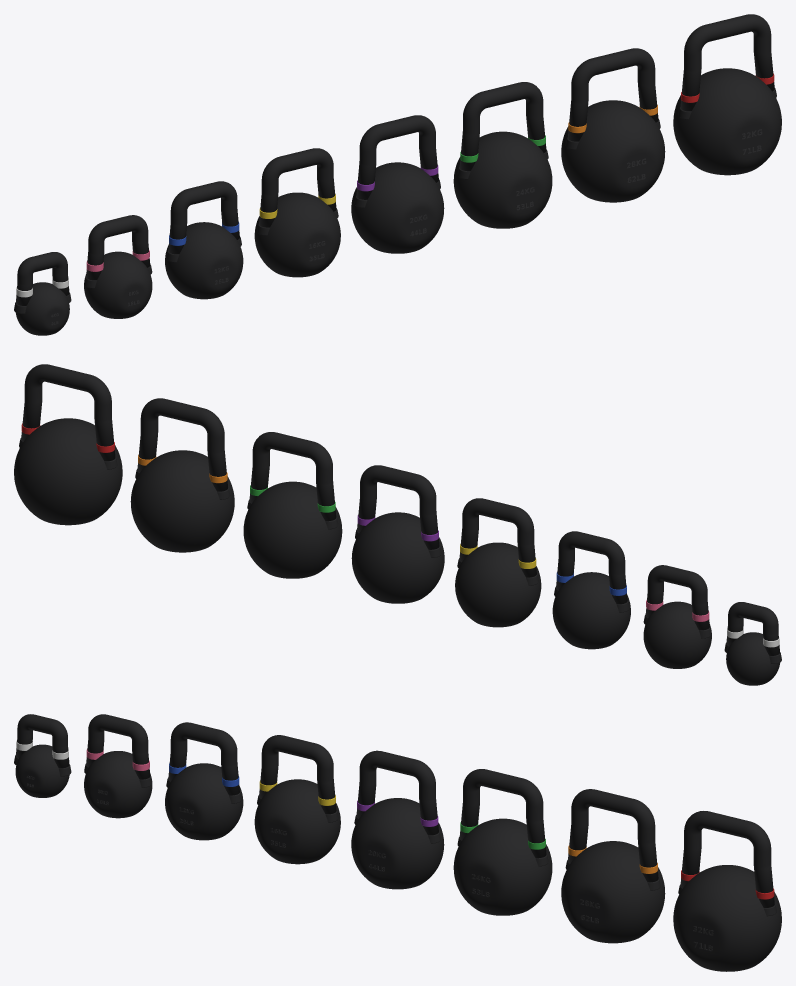
Rendered from life-fitness-cast-iron-kettlebells_v003.glb.
The picture shows the model from 3 angles, top to bottom: view 1: azimuth 30°, elevation 25°; view 2: azimuth 150°, elevation 25°; view 3: azimuth 330°, elevation 25°; orthographic projection.
Visible parts, largest first — view 1: life-fitness-cast-iron-kettlebells_iron, life-fitness-cast-iron-kettlebells_iron.001, life-fitness-cast-iron-kettlebells_ink; view 2: life-fitness-cast-iron-kettlebells_iron, life-fitness-cast-iron-kettlebells_iron.001; view 3: life-fitness-cast-iron-kettlebells_iron, life-fitness-cast-iron-kettlebells_iron.001, life-fitness-cast-iron-kettlebells_ink.
Part boxes in pixels (bbox=[...]): life-fitness-cast-iron-kettlebells_iron: bbox=[14, 68, 781, 335]; life-fitness-cast-iron-kettlebells_iron.001: bbox=[16, 14, 774, 305]; life-fitness-cast-iron-kettlebells_ink: bbox=[51, 129, 762, 325]; life-fitness-cast-iron-kettlebells_iron: bbox=[14, 418, 781, 685]; life-fitness-cast-iron-kettlebells_iron.001: bbox=[21, 364, 779, 655]; life-fitness-cast-iron-kettlebells_iron: bbox=[14, 744, 781, 971]; life-fitness-cast-iron-kettlebells_iron.001: bbox=[16, 714, 774, 907]; life-fitness-cast-iron-kettlebells_ink: bbox=[26, 775, 713, 951].
Size of the model in its own units: 2.04 by 0.3638 by 0.2405.
